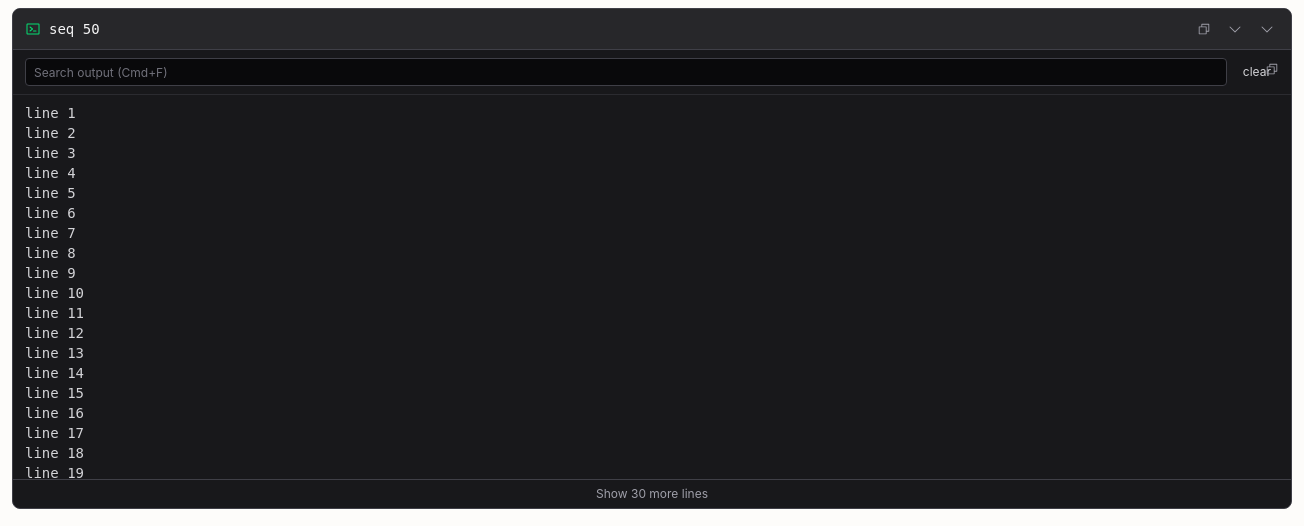
Test case: BashDisplay › Terminal search and output controls › filters output lines by query and removes truncation while searching
Type "line 50" into the field with test id "terminal-search-input" at (626, 72), box [25,58,1227,86]
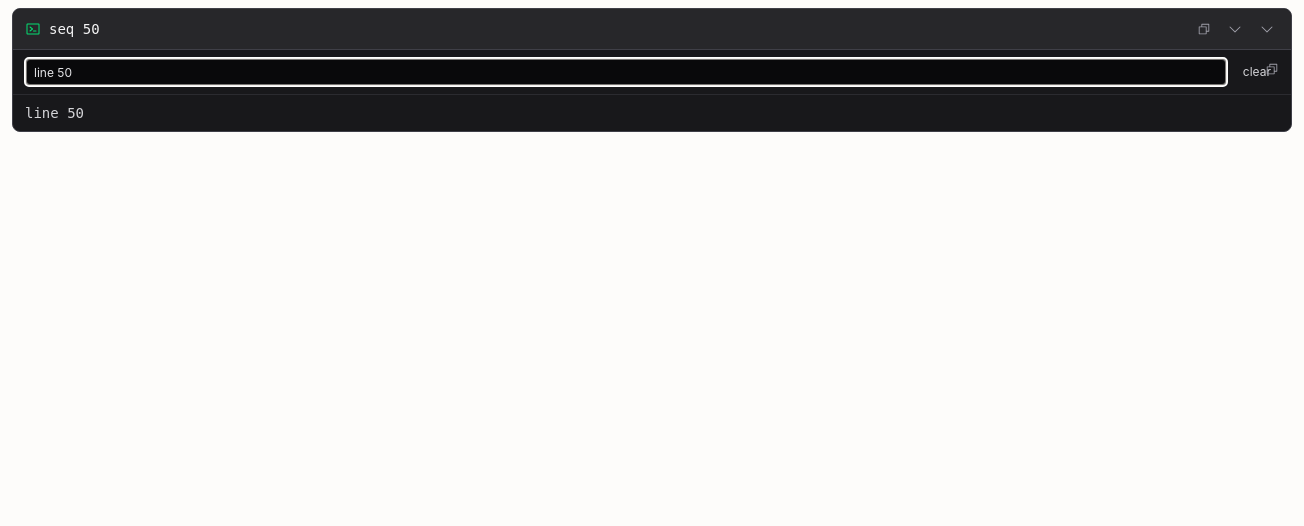
Expected: the element with test id "bash-output" reads "line 50", [25,105,84,121]
Expected: the button "Show 30 more lines" is gone
